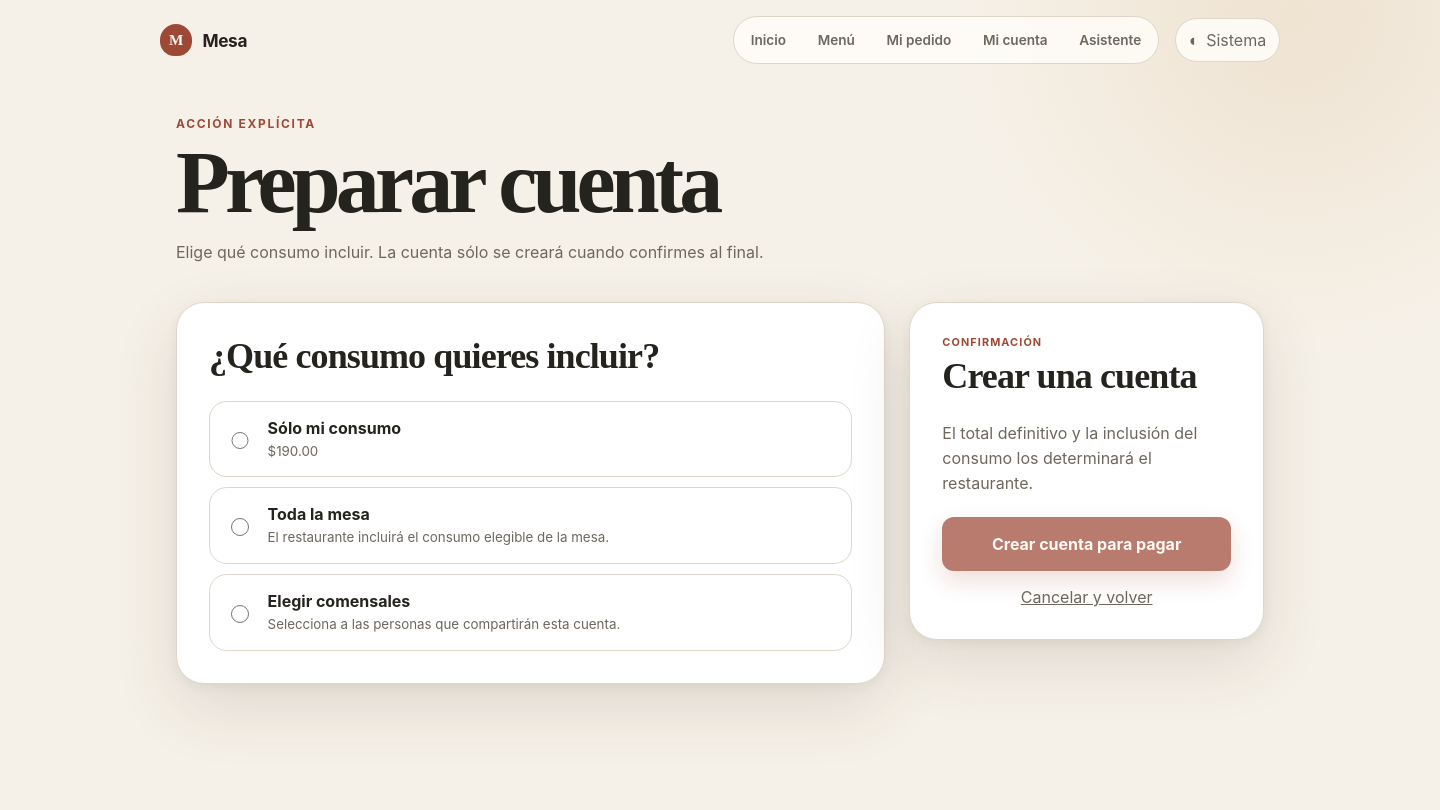
Scenario: check creation and review › does not create on entry and sends the exact individual command only after confirmation
The width and height of the screenshot is (1440, 810).
Expected: the heading "Preparar cuenta" is shown, [176, 134, 718, 231]
Expected: the button "Crear cuenta para pagar" is disabled, [942, 517, 1231, 571]
Click the radio button labelled "Sólo mi consumo $190.00" at (240, 441), box [231, 432, 249, 449]
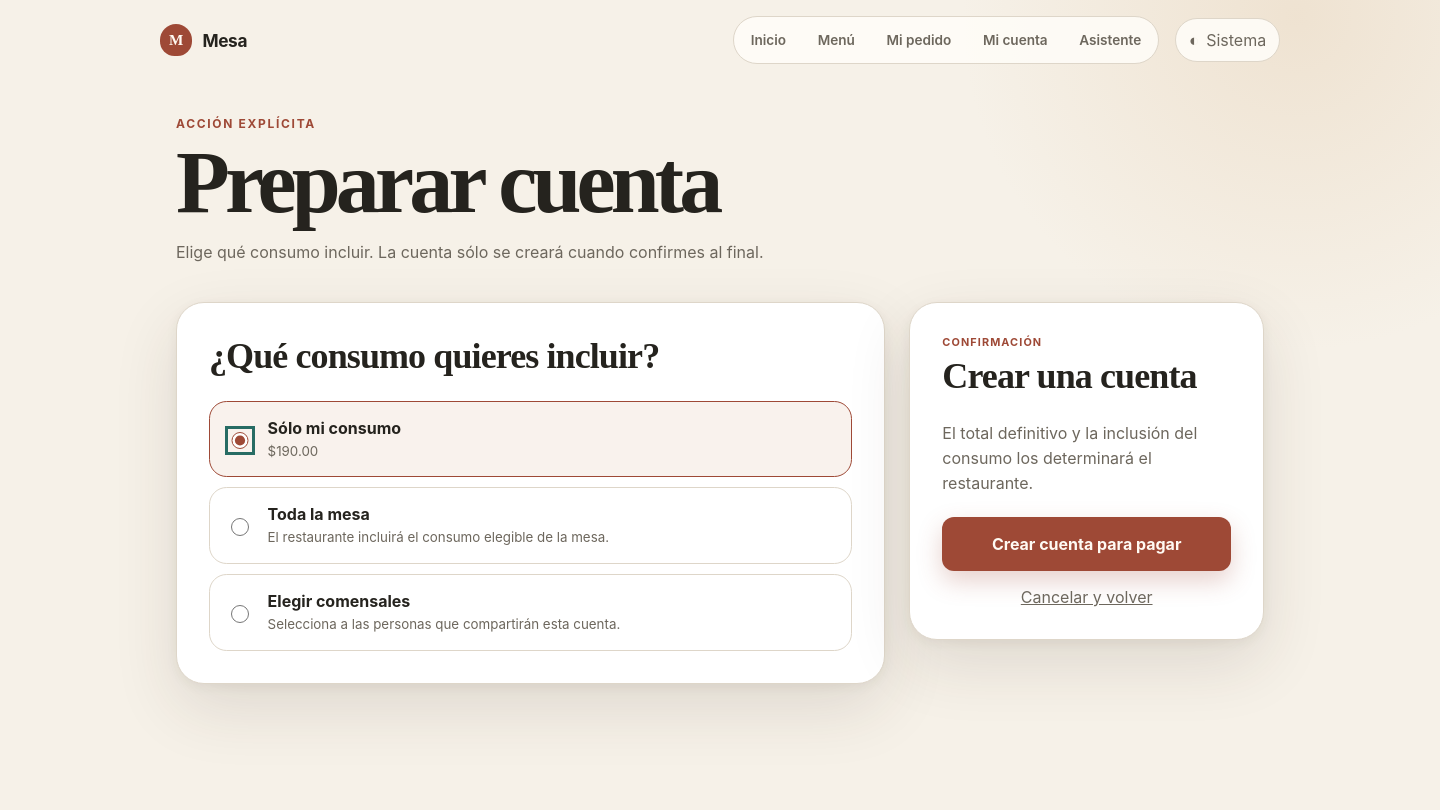
Click the button "Crear cuenta para pagar" at (1087, 544), box [942, 517, 1231, 571]
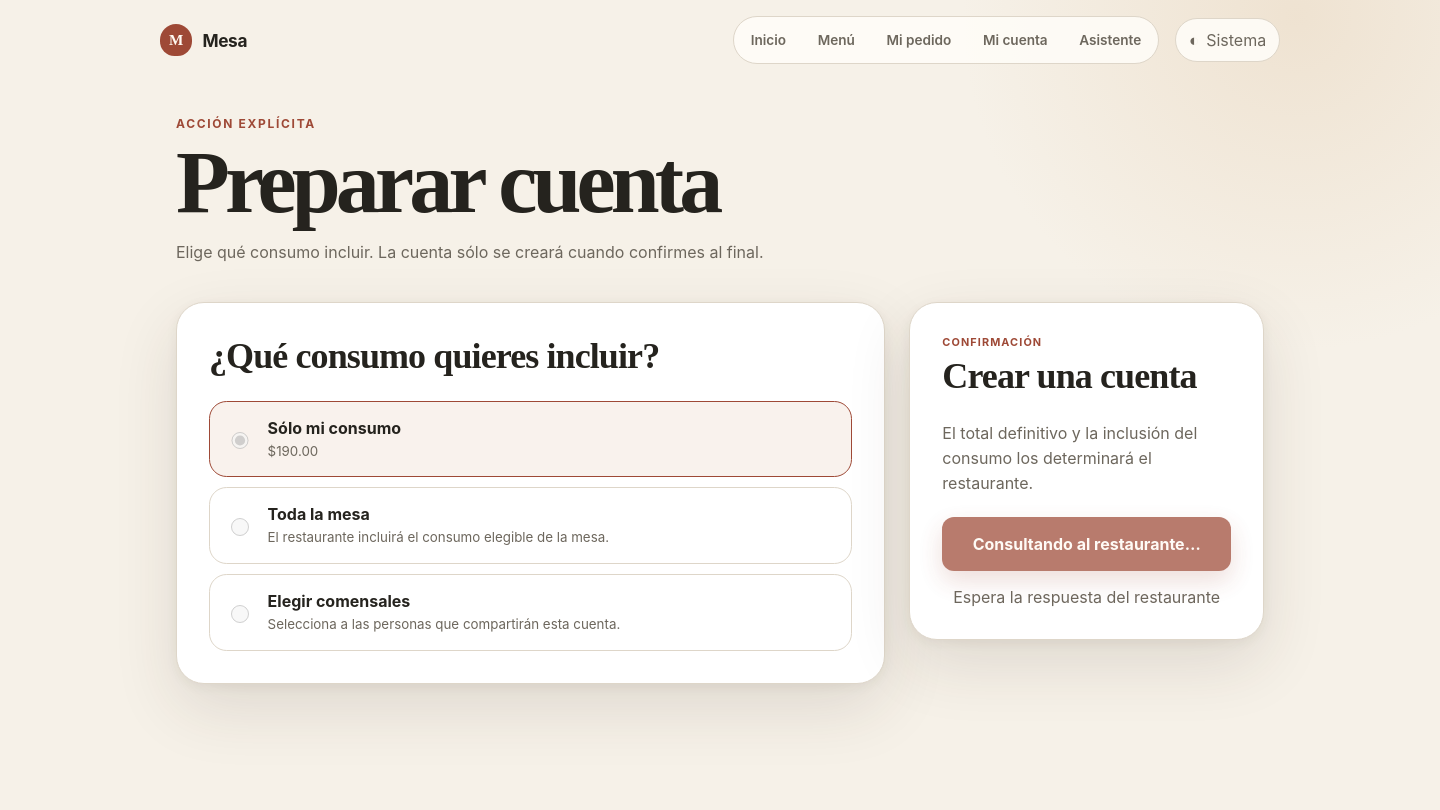
Click the button named "Crear cuenta para pagar" at (1087, 544), box [942, 517, 1231, 571]
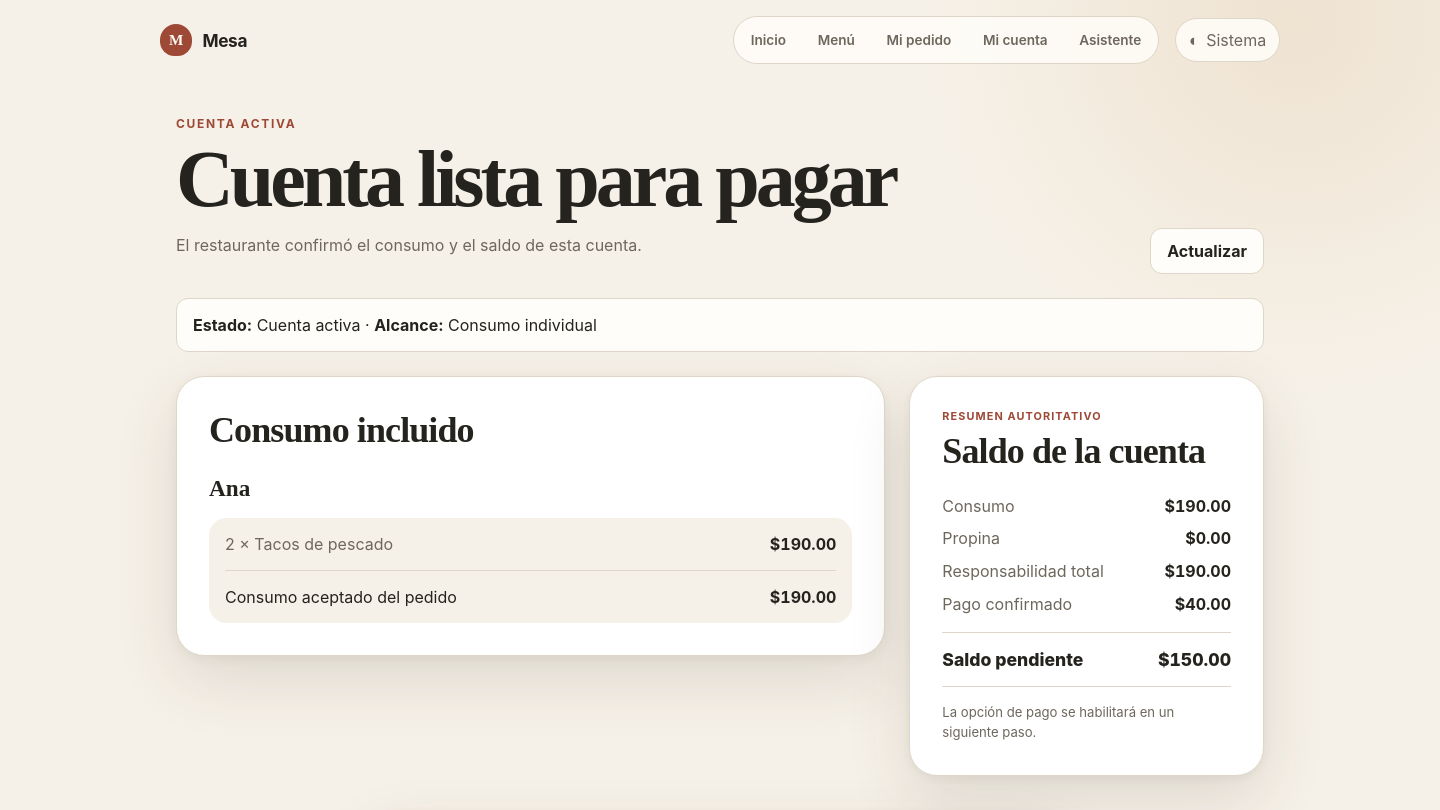
Expected: the heading "Cuenta lista para pagar" is shown, [176, 141, 895, 217]
